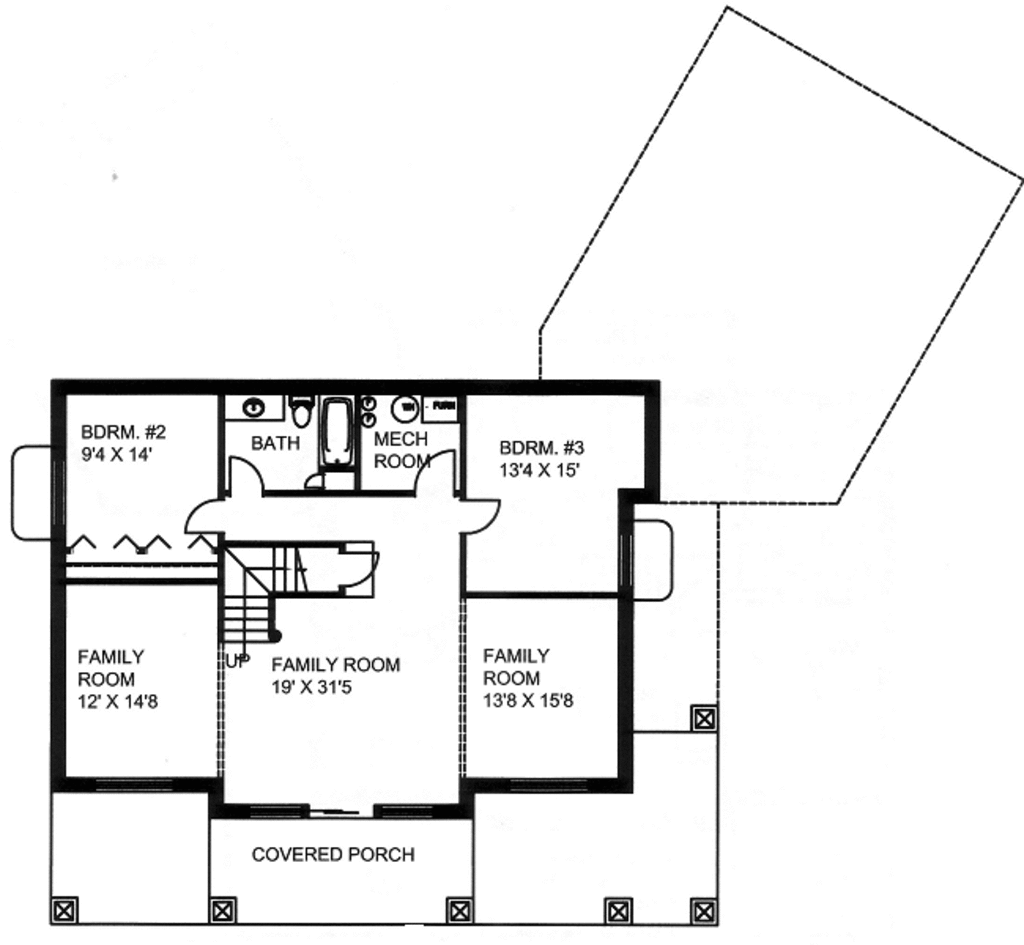door: (341, 535, 382, 613), (411, 446, 462, 500), (455, 490, 505, 543), (178, 486, 221, 539), (226, 452, 263, 496)
large_sink: (285, 392, 316, 436)
small_sink: (226, 395, 288, 426)
stairs: (223, 542, 332, 662)
tub: (319, 389, 355, 468)
window: (89, 777, 179, 797)
